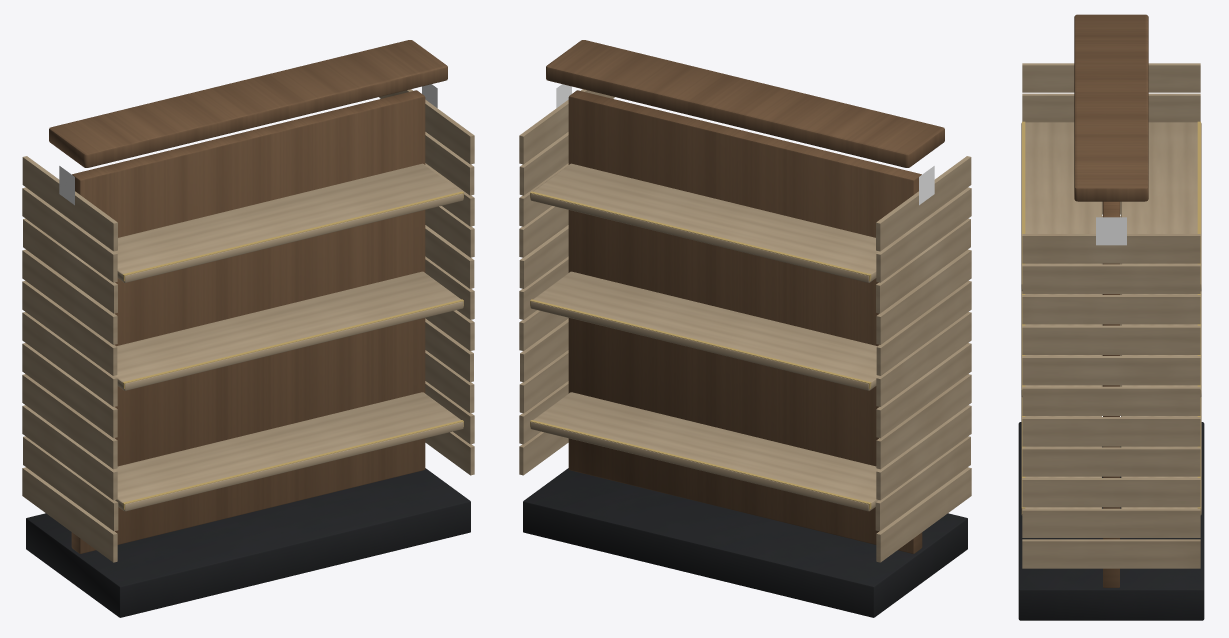
Rendered from retail_gondola.glb.
3 renders of one model, left to right at view 1: azimuth 30°, elevation 25°; view 2: azimuth 150°, elevation 25°; view 3: azimuth 270°, elevation 25°, orthographic.
Parts seen in each view (by area): view 1: Spine, End_Slat_L, Plinth, Top_Cap, Shelf_F01, Shelf_F02, Shelf_F03, End_Slat_R, Shelf_Lip_F01, Shelf_Lip_F03, Shelf_Lip_F02; view 2: Spine, End_Slat_L, Plinth, Top_Cap, Shelf_B02, Shelf_B01, Shelf_B03, End_Slat_R, Shelf_Lip_B01, Shelf_Lip_B03, Shelf_Lip_B02; view 3: End_Slat_R, Top_Cap, Plinth, Shelf_B03, Shelf_F03, End_Slat_L, Spine, Crest_Badge_R, Shelf_B01, Shelf_F01, Shelf_B02, Shelf_F02 (+2 smaller).
Boxes of the visible parts, left/top/right/bottom form: Spine: left=71, top=90, right=425, bottom=553; End_Slat_L: left=22, top=156, right=118, bottom=562; Plinth: left=26, top=468, right=470, bottom=617; Top_Cap: left=49, top=40, right=447, bottom=167; Shelf_F01: left=114, top=392, right=463, bottom=511; Shelf_F02: left=114, top=271, right=463, bottom=390; Shelf_F03: left=114, top=163, right=463, bottom=282; End_Slat_R: left=379, top=89, right=474, bottom=475; Shelf_Lip_F01: left=122, top=420, right=463, bottom=509; Shelf_Lip_F03: left=122, top=191, right=463, bottom=280; Shelf_Lip_F02: left=122, top=299, right=463, bottom=388; Spine: left=568, top=90, right=922, bottom=553; End_Slat_L: left=875, top=156, right=971, bottom=562; Plinth: left=523, top=468, right=967, bottom=617; Top_Cap: left=546, top=40, right=944, bottom=167; Shelf_B02: left=530, top=271, right=879, bottom=390; Shelf_B01: left=530, top=392, right=879, bottom=511; Shelf_B03: left=530, top=163, right=879, bottom=282; End_Slat_R: left=519, top=89, right=614, bottom=475; Shelf_Lip_B01: left=530, top=420, right=871, bottom=509; Shelf_Lip_B03: left=530, top=191, right=871, bottom=280; Shelf_Lip_B02: left=530, top=299, right=871, bottom=388; End_Slat_R: left=1022, top=234, right=1200, bottom=568; Top_Cap: left=1074, top=14, right=1148, bottom=201; Plinth: left=1018, top=422, right=1204, bottom=620; Shelf_B03: left=1121, top=122, right=1201, bottom=290; Shelf_F03: left=1021, top=122, right=1101, bottom=290; End_Slat_L: left=1022, top=63, right=1200, bottom=386; Spine: left=1103, top=201, right=1119, bottom=587; Crest_Badge_R: left=1096, top=217, right=1126, bottom=245; Shelf_B01: left=1121, top=396, right=1201, bottom=515; Shelf_F01: left=1021, top=396, right=1101, bottom=515; Shelf_B02: left=1121, top=291, right=1201, bottom=396; Shelf_F02: left=1021, top=291, right=1101, bottom=396.
Size of the model in its own units: 1.2 by 1.4 by 0.6.
Materials: 7 (4 with a texture image).
